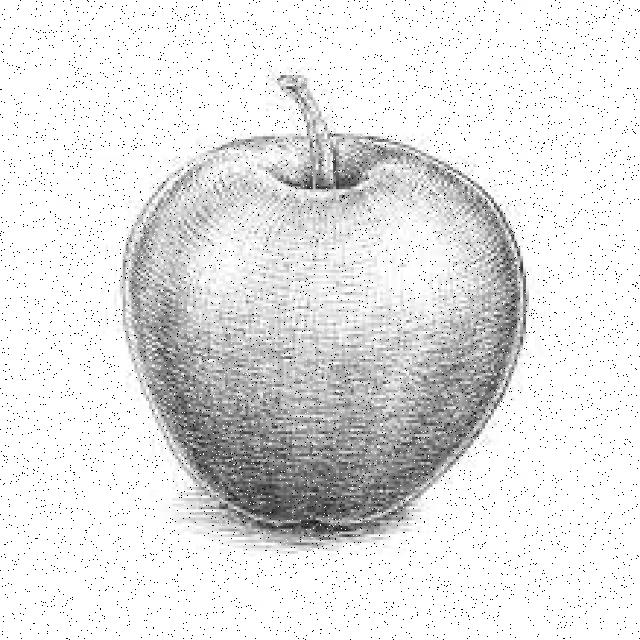Apple: (138, 137, 527, 530)
